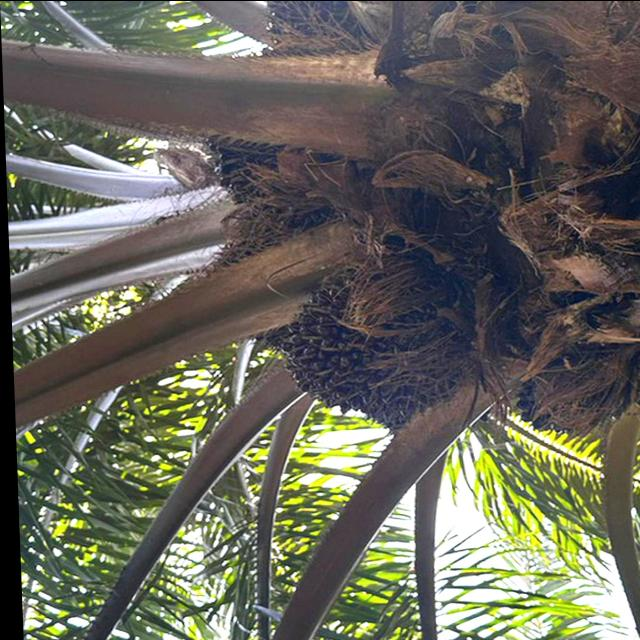almost: (263, 253, 477, 441)
